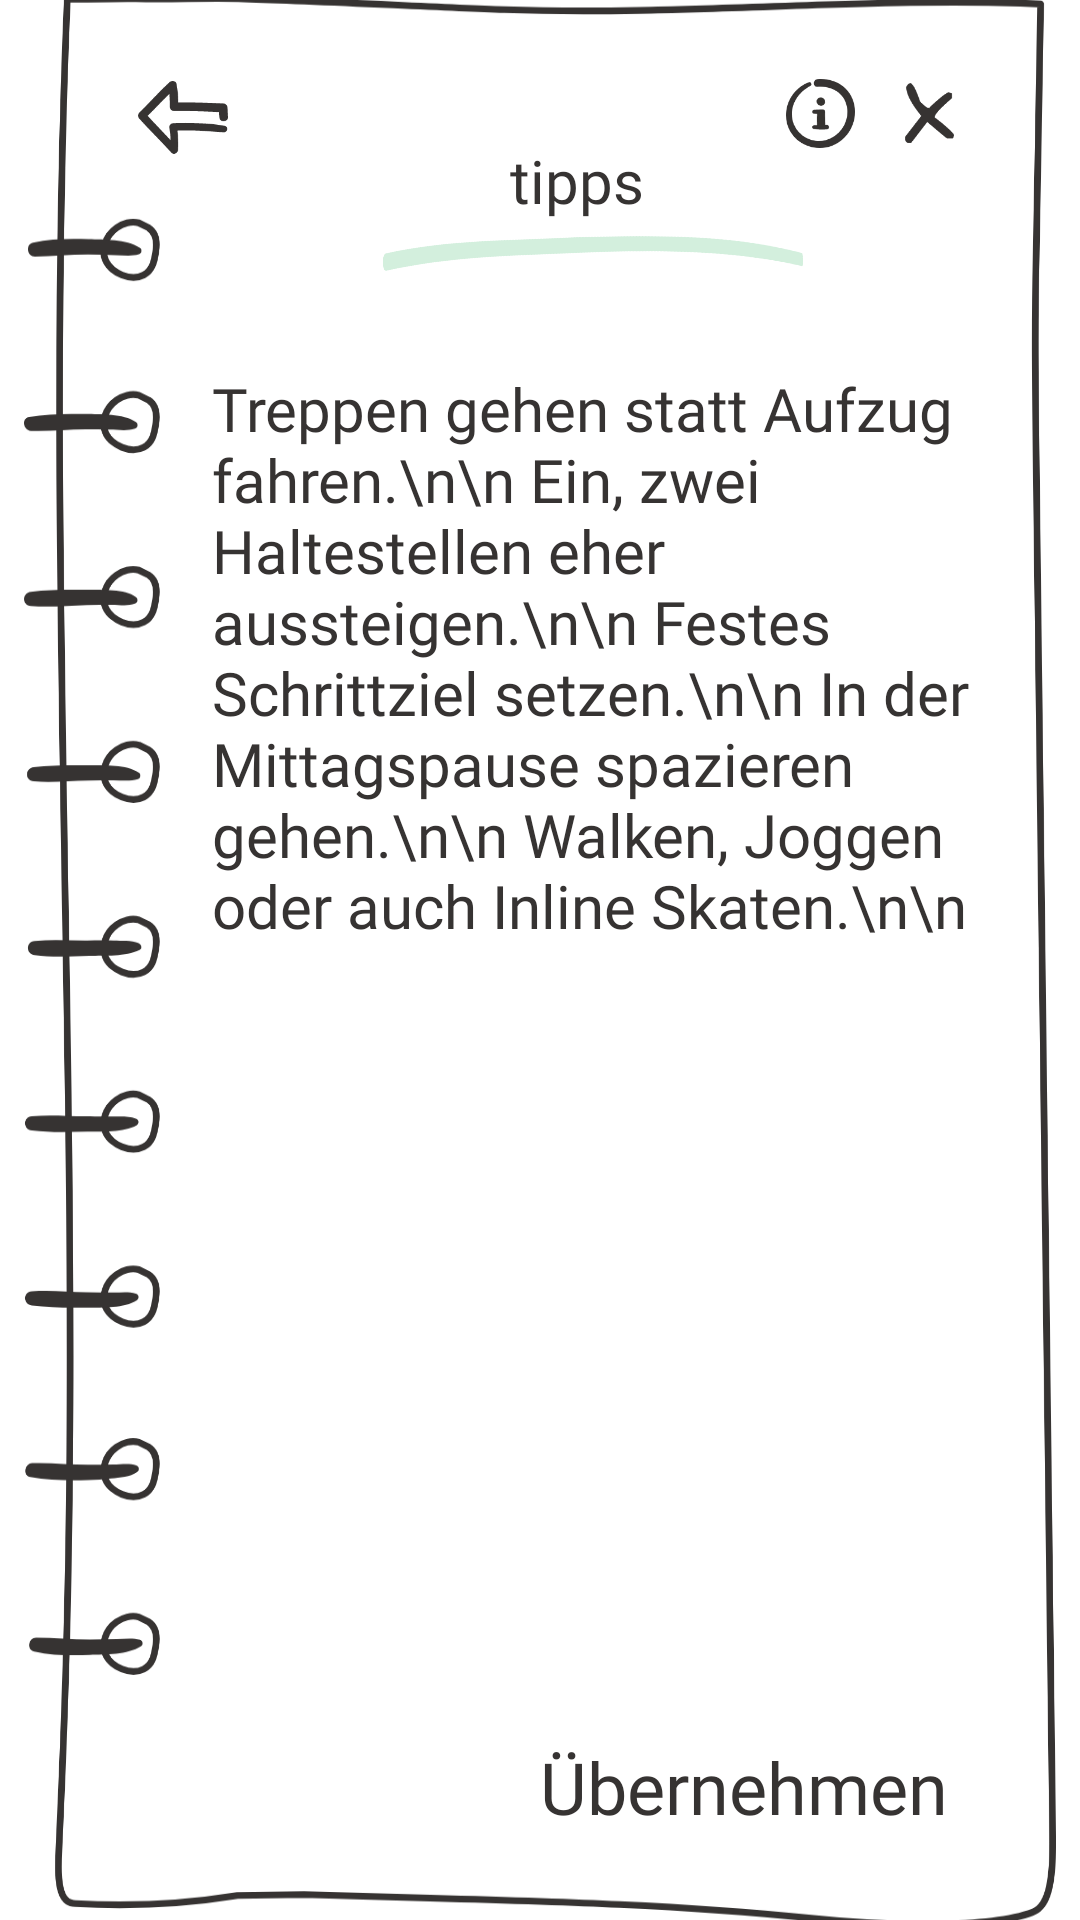

Screen size 1080*1920. Icon name, then its box in pixels as (x1, y1, x2, y2):
arrow: (138, 81, 228, 154)
info: (786, 79, 855, 148)
